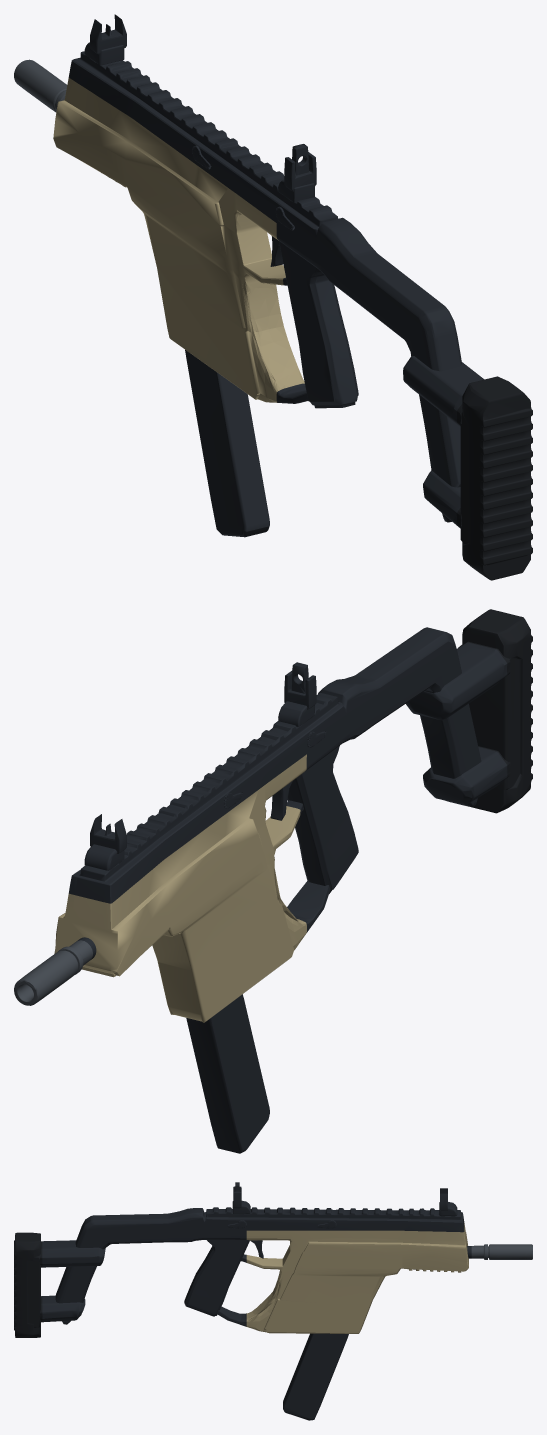
File: Exusiai_Vector.fbx
3 views of the same model, one above another, from view 1: azimuth 30°, elevation 25°; view 2: azimuth 150°, elevation 25°; view 3: azimuth 270°, elevation 25° (orthographic). The views are drawn at different scales.
Visible parts, largest first — view 1: Exusiai_Vector_Geometry; view 2: Exusiai_Vector_Geometry; view 3: Exusiai_Vector_Geometry.
Boxes of the visible parts, left/top/right/bottom form: Exusiai_Vector_Geometry: left=14, top=14, right=532, bottom=580; Exusiai_Vector_Geometry: left=14, top=609, right=532, bottom=1153; Exusiai_Vector_Geometry: left=14, top=1182, right=532, bottom=1420.
Bounding box in the file's own units: 4.39 × 28.86 × 57.99.
